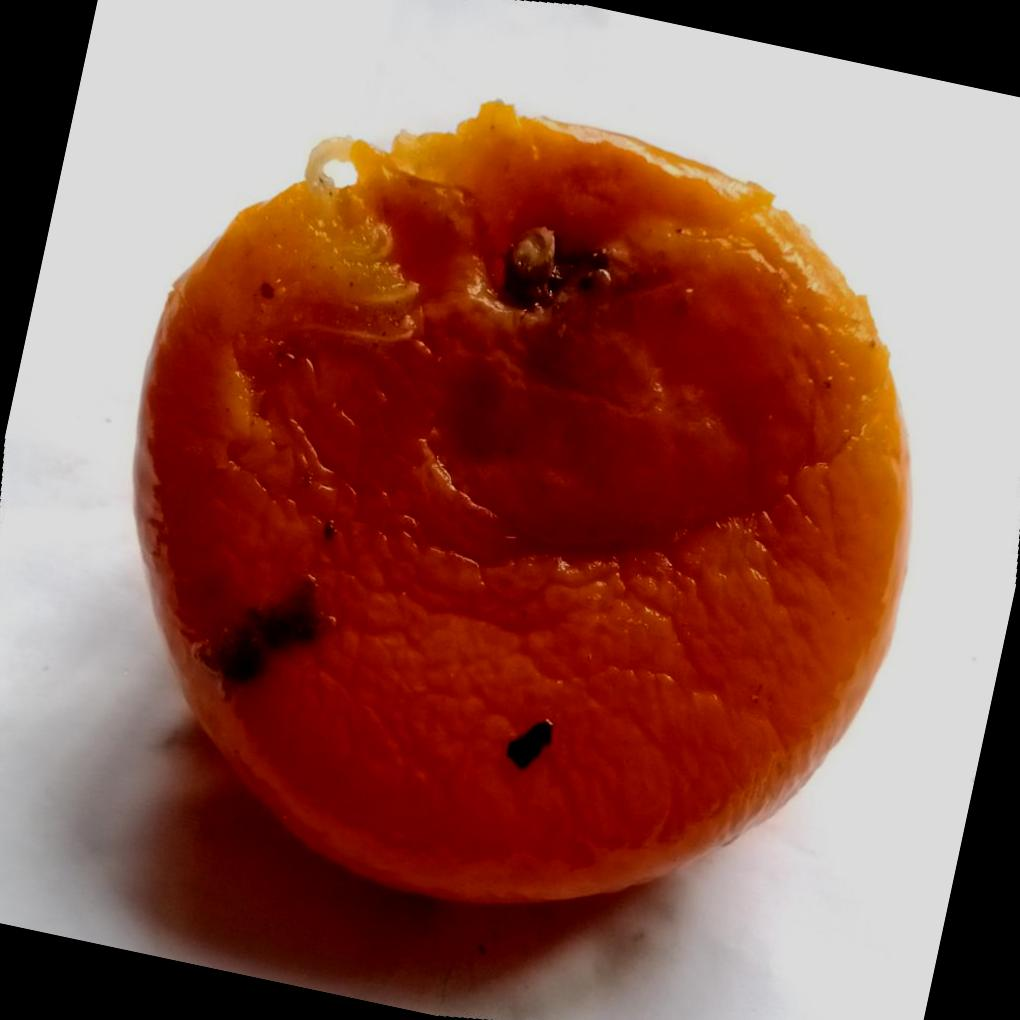FreshOrange: (129, 100, 911, 911)
